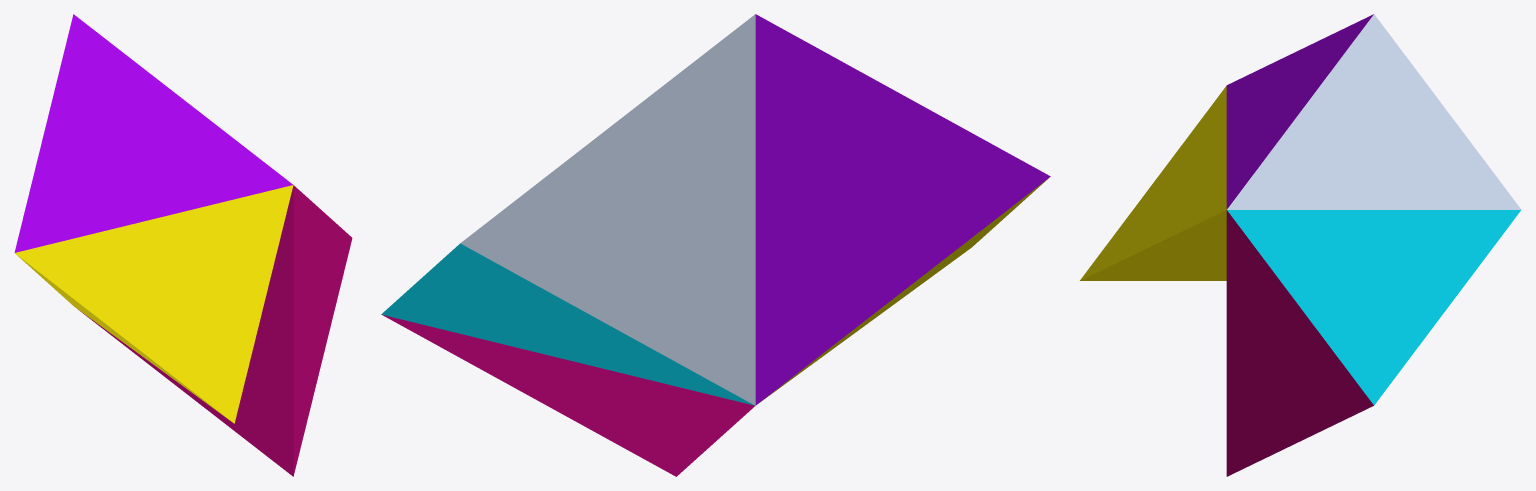
The model's file is TetragonalDisphenoidal_14.glb.
3 renders of one model, left to right at view 1: azimuth 30°, elevation 25°; view 2: azimuth 150°, elevation 25°; view 3: azimuth 270°, elevation 25°, orthographic. The views are drawn at different scales.
Size of the model in its own units: 6 by 6 by 6.
